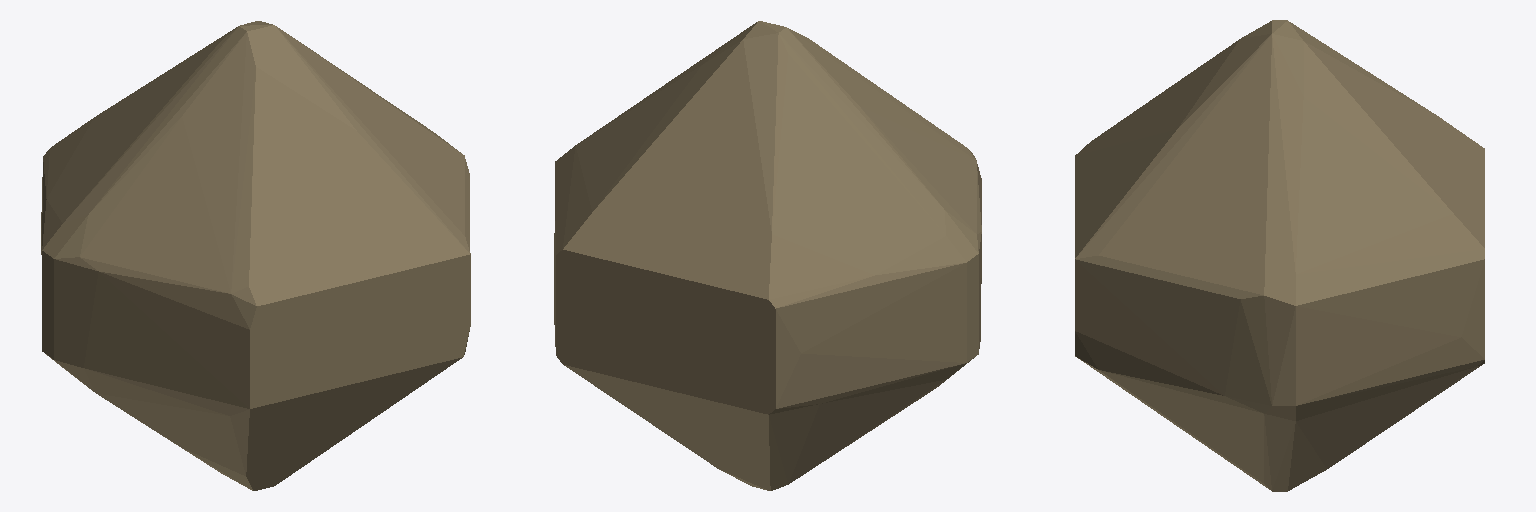
robot.urdf — Diamond_Hex:
<?xml version="1.0"?>
<robot name="Diamond_Hex">
  <link name="base_link">
    <visual>
      <origin xyz="0 0 0" rpy="0 0 0" />
      <geometry>
        <mesh filename="Diamond_Hex_decimated.obj" />      
      </geometry>
      <material name="tan">
        <color rgba="0.55 0.5 0.4 1" />
      </material>
    </visual>
    <collision>
      <origin xyz="0 0 0" rpy="0 0 0" />
      <geometry>
        <mesh filename="Diamond_Hex_decimated.obj" />
      </geometry>
    </collision>
  </link>
</robot>

--- Facts derived from the render (not from the file) ---
Views: 3 orthographic renders of the robot side by side, from view 1: azimuth 30°, elevation 25°; view 2: azimuth 150°, elevation 25°; view 3: azimuth 270°, elevation 25°.
Model Diamond_Hex with 1 links and 0 joints (none), rooted at base_link, posed all joints at 0.
Links seen in each view (by area): view 1: base_link; view 2: base_link; view 3: base_link.
Boxes of the visible links, x1,y1,x2,y2 form: base_link: (41, 21, 470, 490); base_link: (554, 21, 981, 490); base_link: (1075, 20, 1484, 491).
Bounding box of the posed robot: 29.58 × 25.64 × 31.55 m (x, y, z).
1 mesh visuals loaded from 1 distinct referenced files (1 OBJ).
